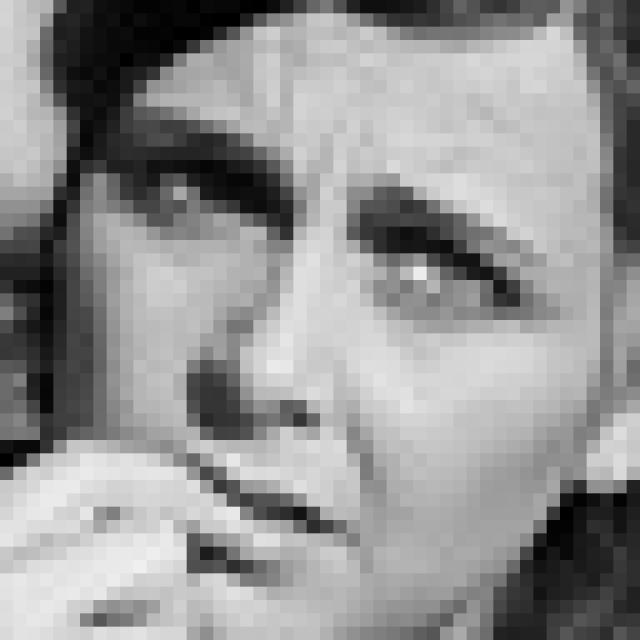fear: (102, 100, 571, 583)
